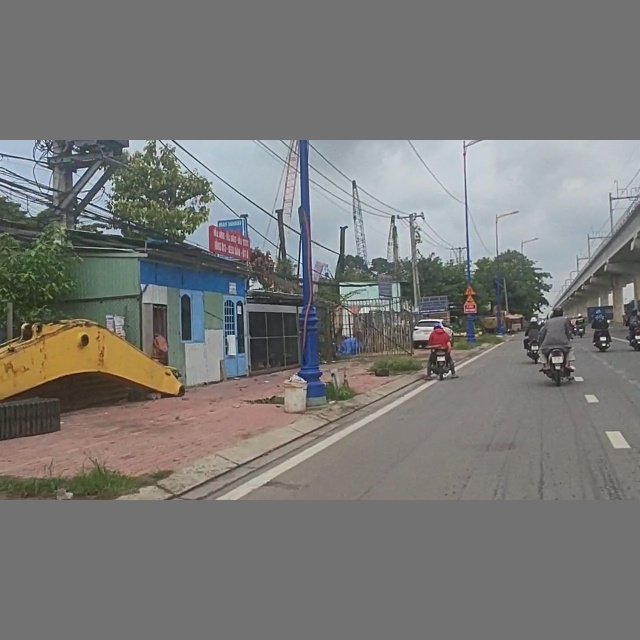W.203c: (463, 285, 475, 295)
W.245a: (464, 295, 476, 303)
